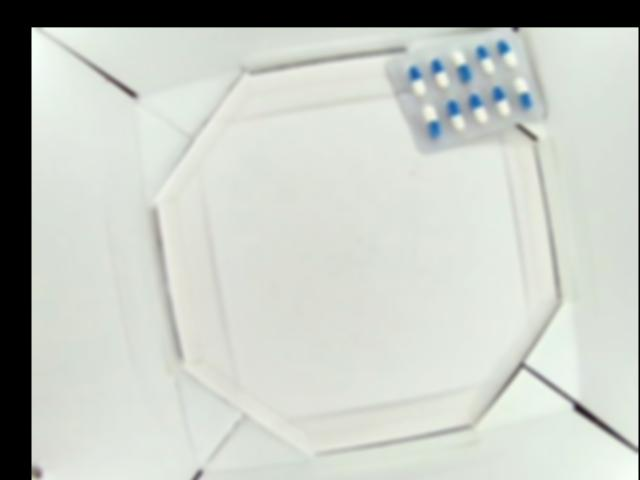Medicine: (384, 28, 547, 150)
